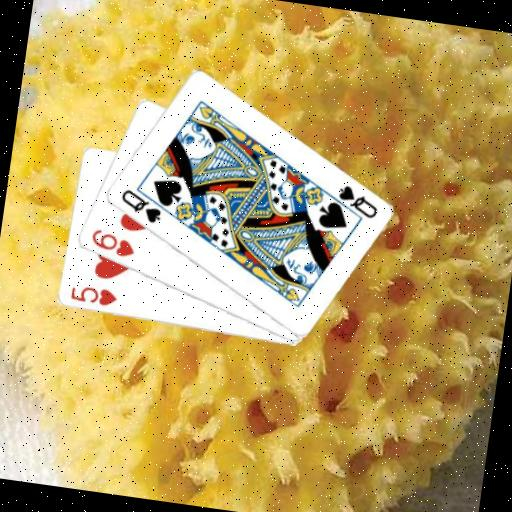5H: (67, 282, 120, 309)
6H: (86, 225, 139, 261)
QS: (115, 185, 165, 226), (332, 181, 382, 221)
